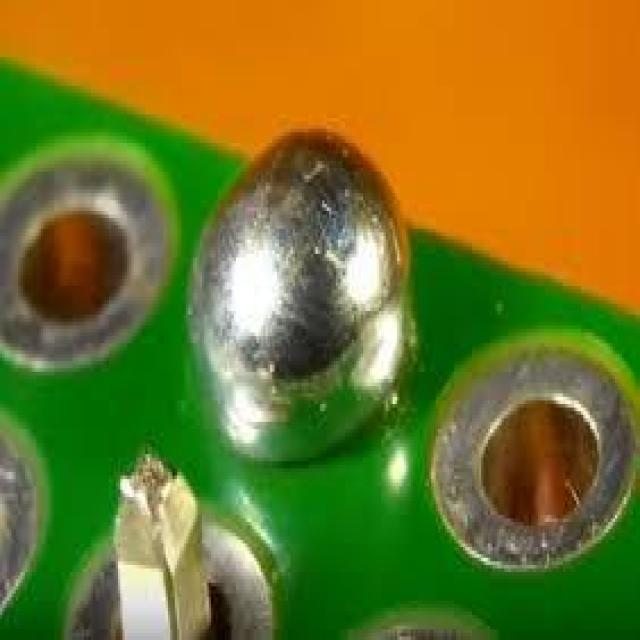redundant: (192, 132, 408, 462)
